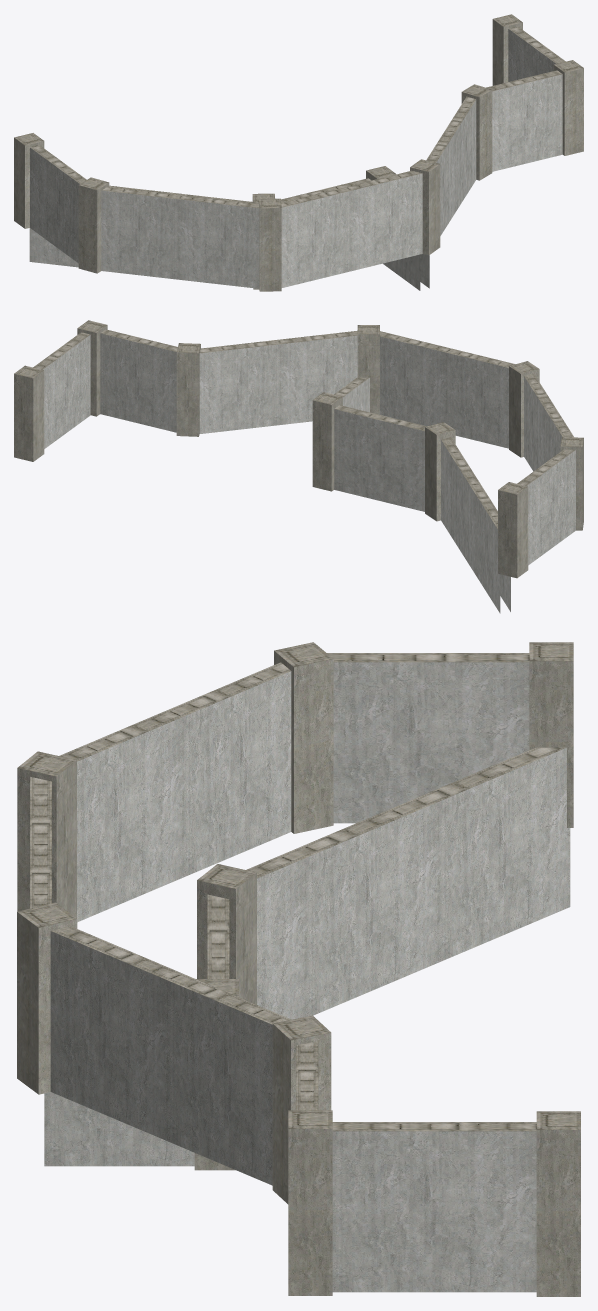
Rendered from poi_corl_corral_half_32x32_s02_l0.fbx.
3 views of the same model, one above another, from view 1: azimuth 30°, elevation 25°; view 2: azimuth 150°, elevation 25°; view 3: azimuth 270°, elevation 25° (orthographic). The views are drawn at different scales.
Parts seen in each view (by area): view 1: mesh_node; view 2: mesh_node; view 3: mesh_node.
Boxes of the visible parts, bbox=[...] form: mesh_node: bbox=[14, 14, 583, 291]; mesh_node: bbox=[14, 320, 583, 613]; mesh_node: bbox=[17, 642, 580, 1296].
Bounding box in the file's own units: 26.02 × 6.15 × 12.71.
